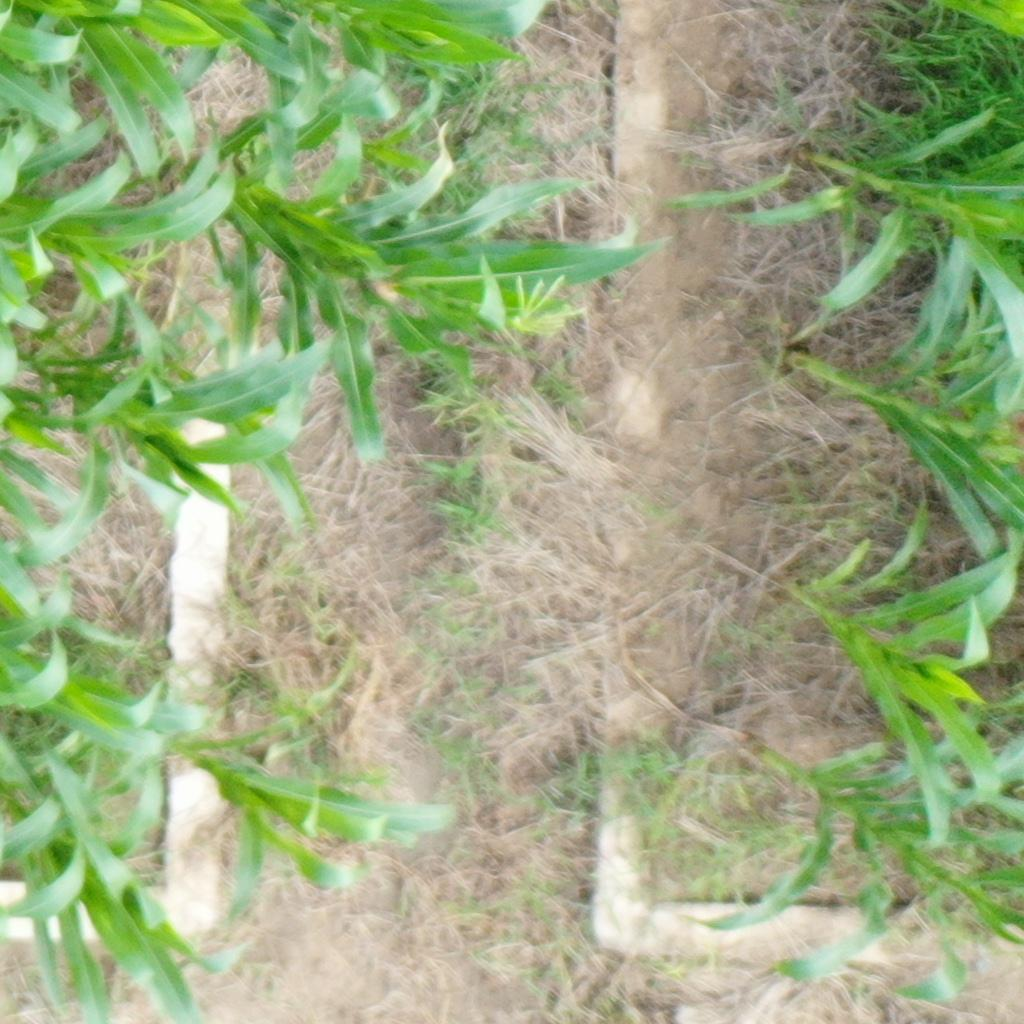Tassel: (508, 270, 589, 337)
